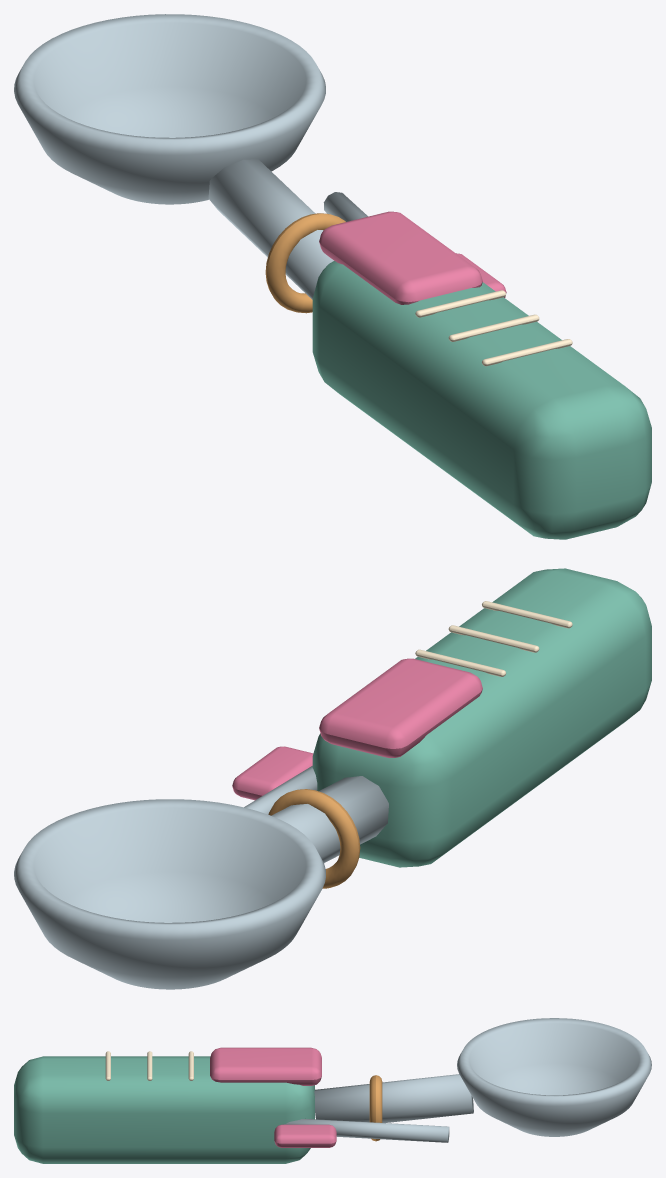
The model's file is One_swipe_scooper.fbx.
3 renders of one model, top to bottom at view 1: azimuth 30°, elevation 25°; view 2: azimuth 150°, elevation 25°; view 3: azimuth 270°, elevation 25°, orthographic. The views are drawn at different scales.
Visible parts, largest first — view 1: Toon_One_swipe_scooper Rounded mint grip.001, Toon_One_swipe_scooper Open scoop head.001, Toon_One_swipe_scooper Soft thumb pad.001, Toon_One_swipe_scooper Steel neck.001, Toon_One_swipe_scooper Upgrade collar.001, Toon_One_swipe_scooper Thumb lever.001; view 2: Toon_One_swipe_scooper Rounded mint grip.001, Toon_One_swipe_scooper Open scoop head.001, Toon_One_swipe_scooper Soft thumb pad.001, Toon_One_swipe_scooper Steel neck.001, Toon_One_swipe_scooper Upgrade collar.001, Toon_One_swipe_scooper Thumb lever end.001, Toon_One_swipe_scooper Thumb lever.001, Toon_One_swipe_scooper Grip groove.004, Toon_One_swipe_scooper Grip groove.005, Toon_One_swipe_scooper Grip groove.003; view 3: Toon_One_swipe_scooper Rounded mint grip.001, Toon_One_swipe_scooper Open scoop head.001, Toon_One_swipe_scooper Steel neck.001, Toon_One_swipe_scooper Soft thumb pad.001, Toon_One_swipe_scooper Thumb lever.001, Toon_One_swipe_scooper Thumb lever end.001, Toon_One_swipe_scooper Upgrade collar.001.
Part boxes in pixels (x1=…): Toon_One_swipe_scooper Rounded mint grip.001: x1=312, y1=261, x2=651, y2=539; Toon_One_swipe_scooper Open scoop head.001: x1=14, y1=14, x2=325, y2=204; Toon_One_swipe_scooper Soft thumb pad.001: x1=319, y1=211, x2=482, y2=304; Toon_One_swipe_scooper Steel neck.001: x1=208, y1=159, x2=333, y2=299; Toon_One_swipe_scooper Upgrade collar.001: x1=265, y1=213, x2=345, y2=313; Toon_One_swipe_scooper Thumb lever.001: x1=323, y1=192, x2=367, y2=221; Toon_One_swipe_scooper Rounded mint grip.001: x1=312, y1=568, x2=651, y2=867; Toon_One_swipe_scooper Open scoop head.001: x1=14, y1=799, x2=325, y2=989; Toon_One_swipe_scooper Soft thumb pad.001: x1=319, y1=658, x2=482, y2=758; Toon_One_swipe_scooper Steel neck.001: x1=271, y1=776, x2=388, y2=862; Toon_One_swipe_scooper Upgrade collar.001: x1=268, y1=789, x2=360, y2=888; Toon_One_swipe_scooper Thumb lever end.001: x1=232, y1=746, x2=313, y2=800; Toon_One_swipe_scooper Thumb lever.001: x1=244, y1=766, x2=317, y2=814; Toon_One_swipe_scooper Grip groove.004: x1=448, y1=625, x2=539, y2=652; Toon_One_swipe_scooper Grip groove.005: x1=415, y1=649, x2=506, y2=676; Toon_One_swipe_scooper Grip groove.003: x1=482, y1=601, x2=572, y2=628; Toon_One_swipe_scooper Rounded mint grip.001: x1=14, y1=1056, x2=314, y2=1163; Toon_One_swipe_scooper Open scoop head.001: x1=457, y1=1018, x2=651, y2=1136; Toon_One_swipe_scooper Steel neck.001: x1=314, y1=1074, x2=473, y2=1122; Toon_One_swipe_scooper Soft thumb pad.001: x1=210, y1=1047, x2=321, y2=1085; Toon_One_swipe_scooper Thumb lever.001: x1=284, y1=1118, x2=449, y2=1142; Toon_One_swipe_scooper Thumb lever end.001: x1=274, y1=1124, x2=336, y2=1147; Toon_One_swipe_scooper Upgrade collar.001: x1=369, y1=1075, x2=382, y2=1141.
Bounding box in the file's own units: 9.4 × 5.1 × 30.75.
